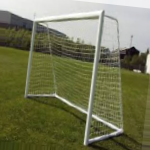goals: (23, 10, 125, 144)
